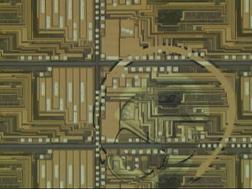BLOCK ETCH: (93, 43, 239, 188)
